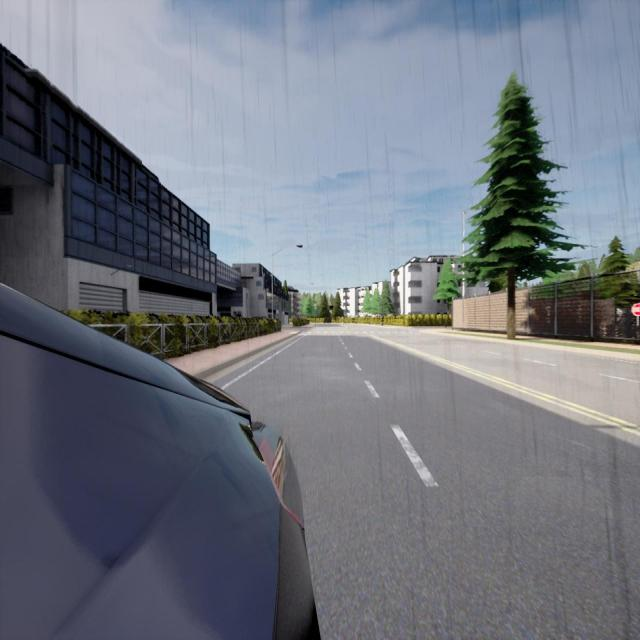Traffic_Signs: (631, 303, 640, 316)
Vehicle: (0, 283, 318, 637)
